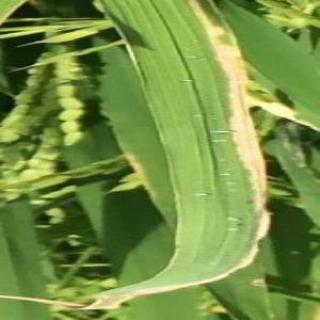Hawar-Daun: (83, 0, 273, 309)
